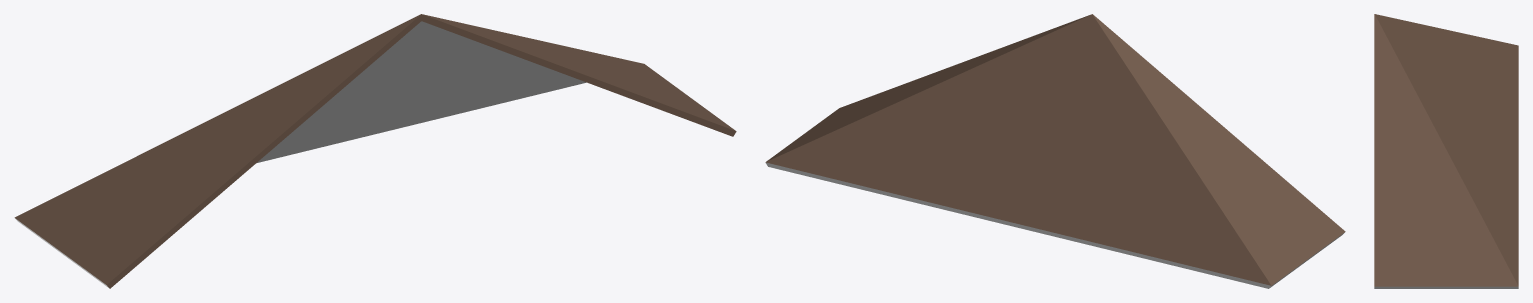
The model's file is Roof4_C2_02.fbx.
The picture shows the model from 3 angles, left to right: view 1: azimuth 30°, elevation 25°; view 2: azimuth 150°, elevation 25°; view 3: azimuth 270°, elevation 25°; orthographic projection. The views are drawn at different scales.
Visible parts, largest first — view 1: Roof4_C2_02; view 2: Roof4_C2_02; view 3: Roof4_C2_02.
Boxes of the visible parts, x1=… form: Roof4_C2_02: x1=14, y1=14, x2=736, y2=288; Roof4_C2_02: x1=765, y1=14, x2=1345, y2=288; Roof4_C2_02: x1=1374, y1=14, x2=1518, y2=288.
Bounding box in the file's own units: 1105 × 333 × 280.
